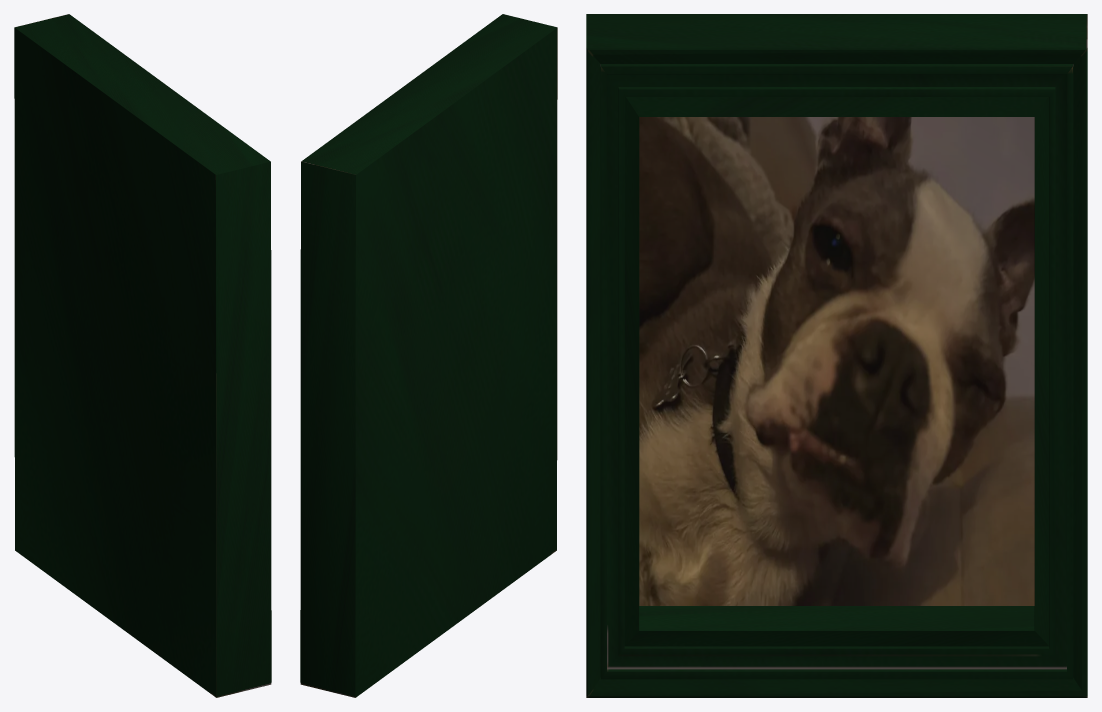
Rendered from jasperdogframe.fbx.
The picture shows the model from 3 angles, left to right: view 1: azimuth 30°, elevation 25°; view 2: azimuth 150°, elevation 25°; view 3: azimuth 270°, elevation 25°; orthographic projection. The views are drawn at different scales.
Parts seen in each view (by area): view 1: Cube.009; view 2: Cube.009; view 3: Cube.009.
Part boxes in pixels (bbox=[...]): Cube.009: bbox=[14, 14, 271, 697]; Cube.009: bbox=[300, 14, 557, 697]; Cube.009: bbox=[586, 14, 1087, 697].
Bounding box in the file's own units: 42.27 × 368 × 257.
